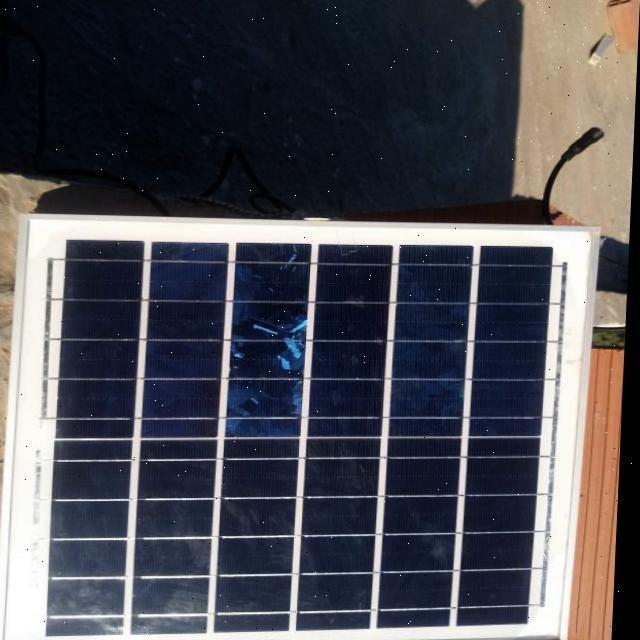Normal Solar Panel: (4, 216, 602, 640)
